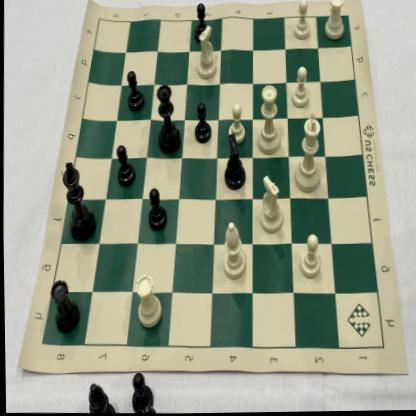black-king: (60, 157, 99, 244)
black-knight: (219, 134, 247, 192)
black-pawn: (145, 186, 169, 232), (114, 144, 137, 189), (191, 103, 214, 147), (124, 70, 145, 114), (192, 0, 212, 45)
black-queen: (153, 80, 182, 158)
black-rook: (45, 276, 83, 337)
white-bishop: (220, 220, 247, 281)
white-king: (291, 111, 324, 196)
white-knight: (255, 175, 284, 237), (194, 24, 218, 81)
white-pawn: (297, 230, 322, 281), (289, 64, 311, 111), (226, 101, 248, 145), (291, 0, 313, 42)
white-queen: (255, 83, 281, 158)
white-rook: (132, 269, 166, 330), (319, 0, 347, 46)
